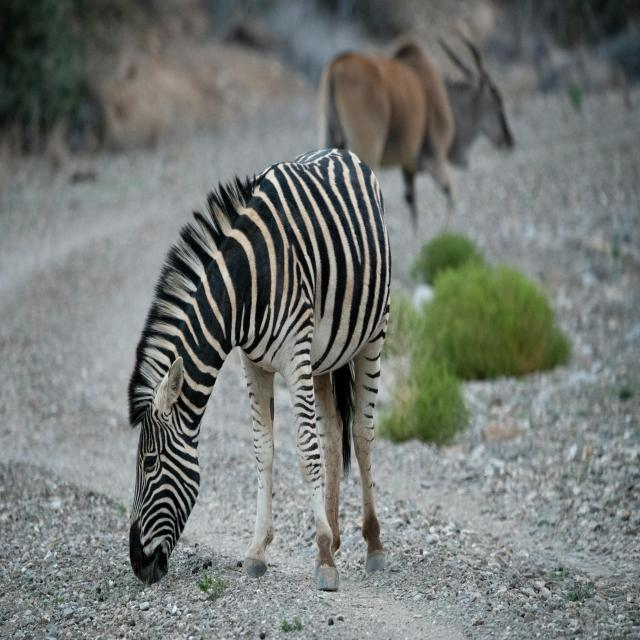Zebra: (128, 145, 392, 593)
